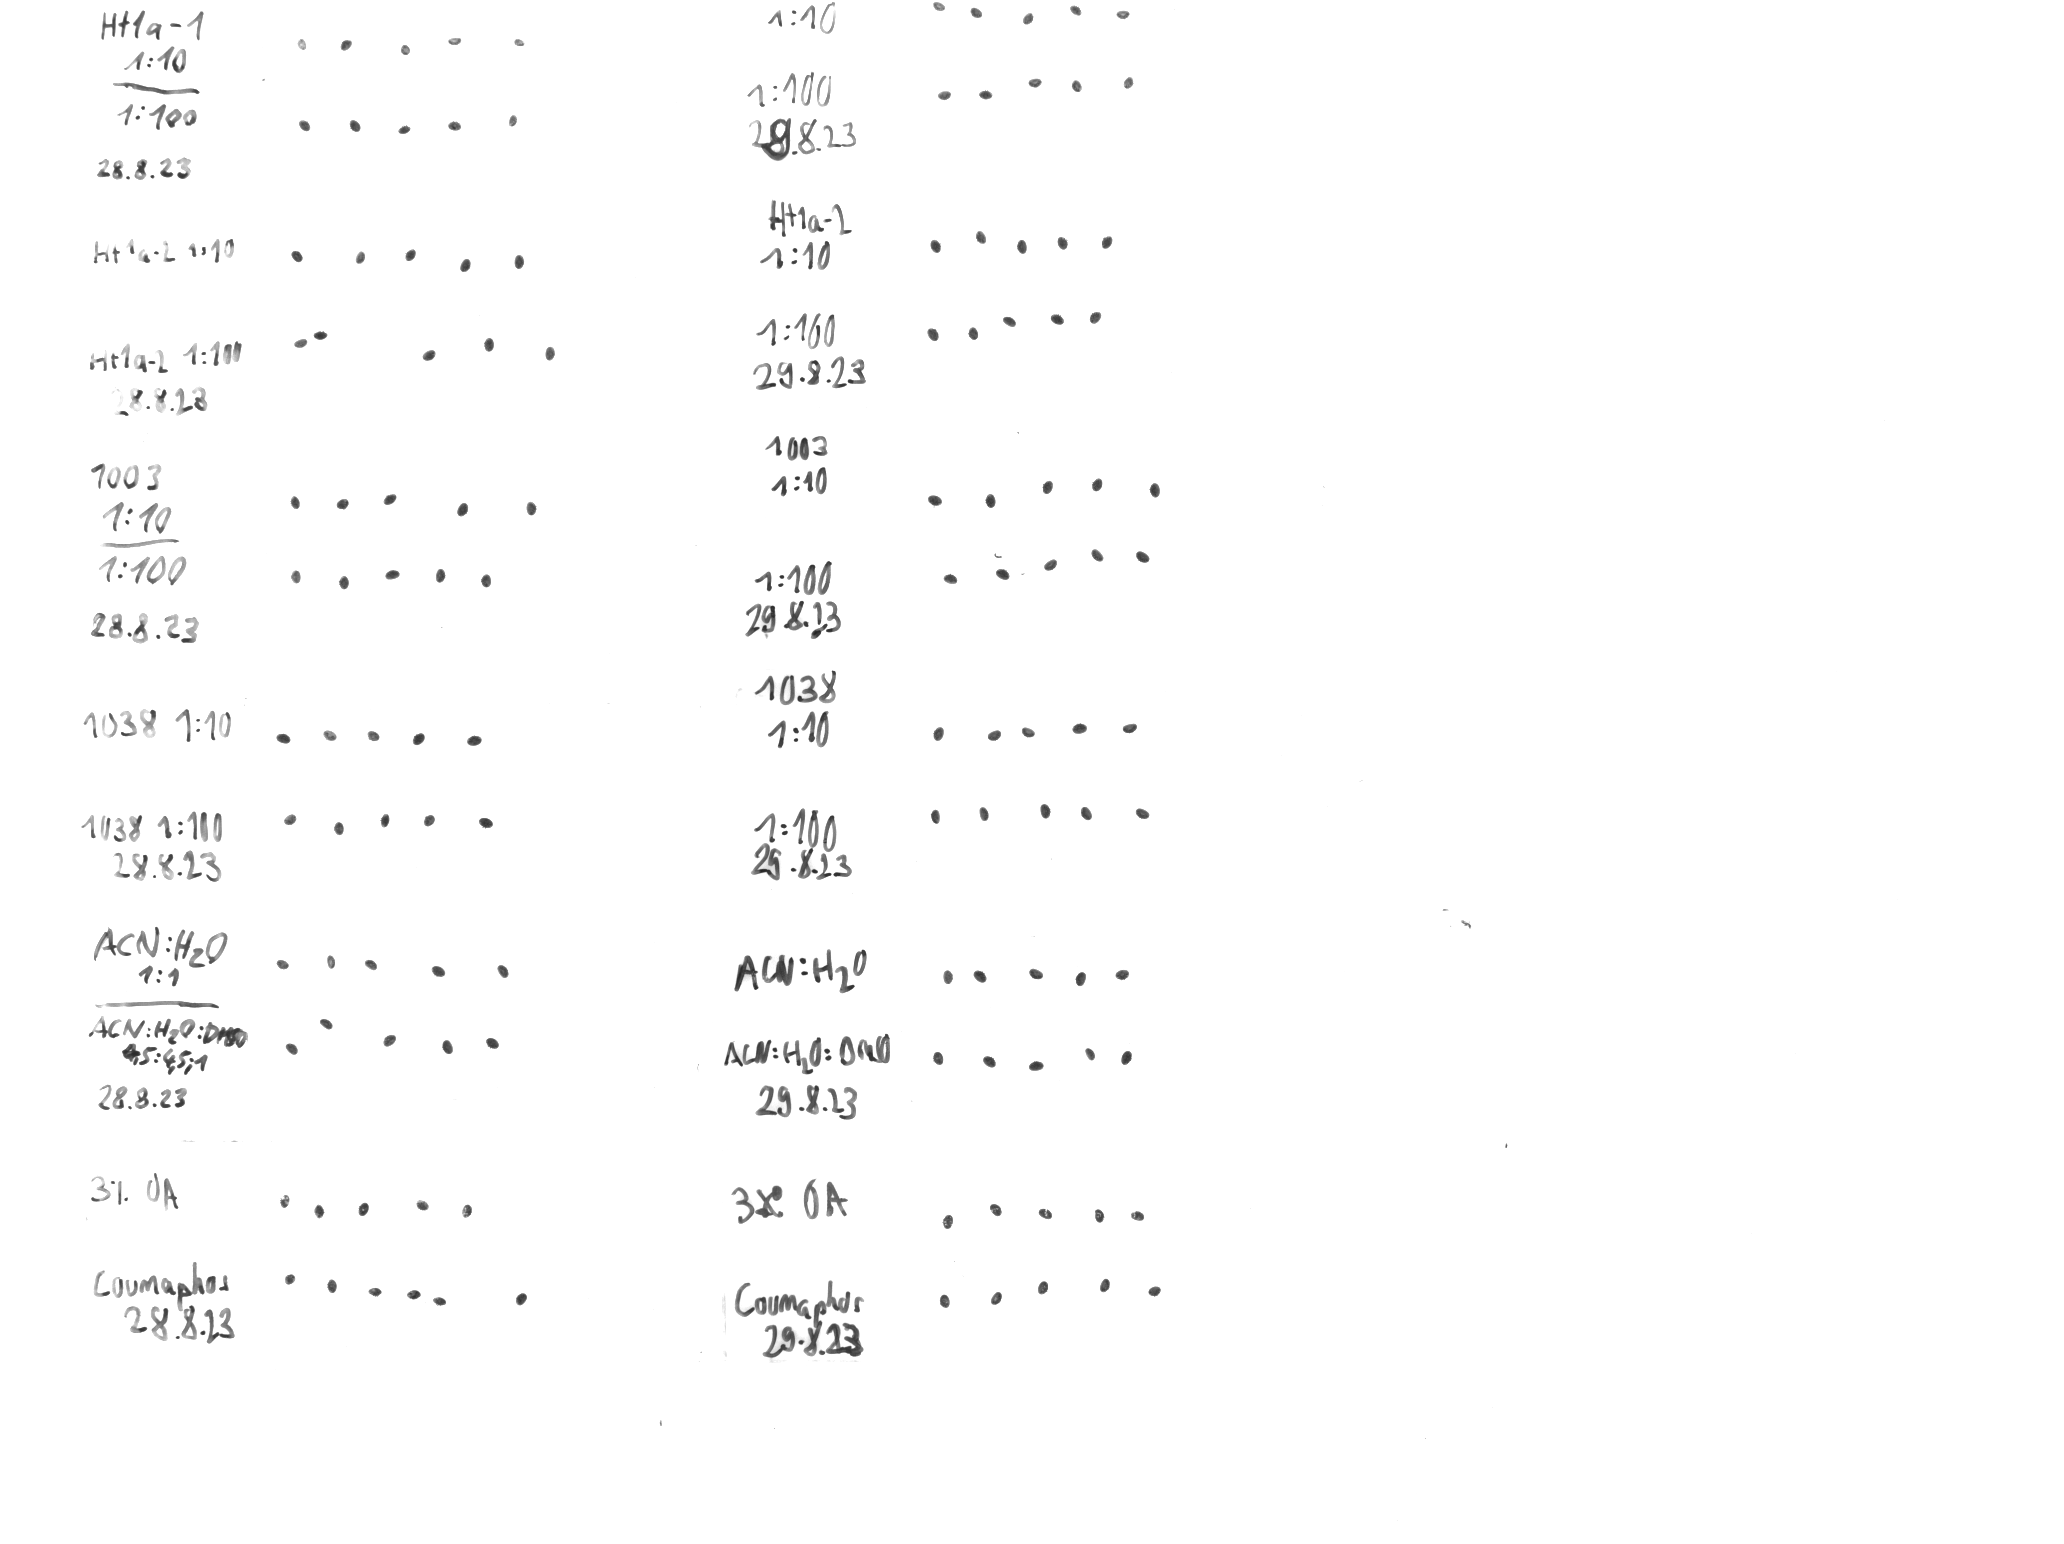varroa: (1146, 480, 1163, 501), (991, 566, 1010, 582), (464, 733, 483, 748), (477, 816, 493, 832), (926, 491, 942, 508), (277, 1192, 292, 1210), (459, 1202, 473, 1220), (939, 1213, 953, 1231), (365, 728, 381, 743), (420, 813, 436, 827), (439, 1040, 454, 1056), (311, 1203, 326, 1220), (1090, 477, 1104, 493), (1043, 558, 1059, 573), (1090, 547, 1104, 563), (381, 491, 399, 504), (428, 965, 446, 978), (1120, 722, 1138, 735), (1133, 808, 1151, 821), (1073, 970, 1086, 988), (1119, 1048, 1132, 1066), (410, 731, 425, 746), (415, 1197, 430, 1212), (926, 328, 940, 342), (942, 571, 957, 585), (1135, 550, 1150, 564), (1078, 806, 1093, 821), (973, 968, 987, 983), (987, 1202, 1002, 1216), (512, 253, 525, 269), (483, 336, 496, 352), (274, 731, 290, 744), (332, 821, 345, 837), (362, 959, 378, 971), (516, 1291, 529, 1307), (1015, 238, 1028, 255), (1101, 234, 1114, 250), (1041, 478, 1054, 495), (932, 725, 945, 741), (1072, 722, 1088, 735), (929, 809, 942, 826), (1038, 803, 1051, 819), (981, 1054, 997, 1067), (1028, 1059, 1044, 1072), (1036, 1207, 1052, 1220), (311, 329, 329, 341), (383, 569, 400, 581), (381, 1035, 399, 1046), (1114, 8, 1132, 19), (984, 491, 996, 509), (986, 730, 1004, 741), (942, 968, 953, 986), (1112, 968, 1130, 980), (349, 118, 362, 133), (422, 349, 436, 362), (336, 498, 350, 511), (454, 503, 469, 516), (289, 569, 302, 584), (337, 576, 350, 590), (433, 568, 446, 582), (478, 573, 491, 587), (323, 728, 337, 741), (496, 963, 509, 978), (285, 1041, 298, 1056), (485, 1036, 499, 1049), (357, 1202, 370, 1216), (282, 1272, 295, 1286), (1021, 11, 1034, 26), (978, 88, 992, 101), (1070, 78, 1083, 92), (929, 238, 942, 253), (1056, 235, 1068, 250), (1088, 310, 1101, 324), (1028, 967, 1043, 980), (1036, 1280, 1049, 1294), (527, 501, 538, 517), (282, 813, 298, 824), (378, 813, 389, 829), (318, 1019, 334, 1030), (326, 1278, 337, 1294), (405, 1289, 422, 1301), (936, 89, 952, 101), (1122, 75, 1133, 91), (1049, 313, 1065, 324), (978, 806, 989, 822), (932, 1049, 944, 1066), (1085, 1046, 1096, 1062), (353, 251, 366, 264), (404, 248, 417, 261), (970, 5, 983, 18), (1068, 3, 1081, 16), (966, 328, 979, 341), (1021, 725, 1034, 738), (989, 1291, 1002, 1304), (446, 36, 460, 47), (297, 120, 311, 131), (459, 258, 470, 272), (543, 345, 555, 360), (289, 495, 300, 509), (274, 959, 289, 970), (368, 1286, 383, 1297), (431, 1296, 446, 1307), (932, 0, 947, 11), (1002, 316, 1017, 328), (1093, 1208, 1104, 1223), (939, 1294, 950, 1309), (1099, 1278, 1111, 1293), (396, 125, 412, 135), (1130, 1212, 1146, 1221), (339, 39, 352, 50), (447, 120, 460, 131), (290, 250, 302, 263), (1028, 78, 1043, 88), (509, 112, 517, 128), (292, 339, 308, 347), (399, 44, 410, 55), (974, 232, 986, 243), (326, 955, 336, 968), (1148, 1286, 1161, 1296), (297, 39, 306, 50), (514, 37, 524, 47)
